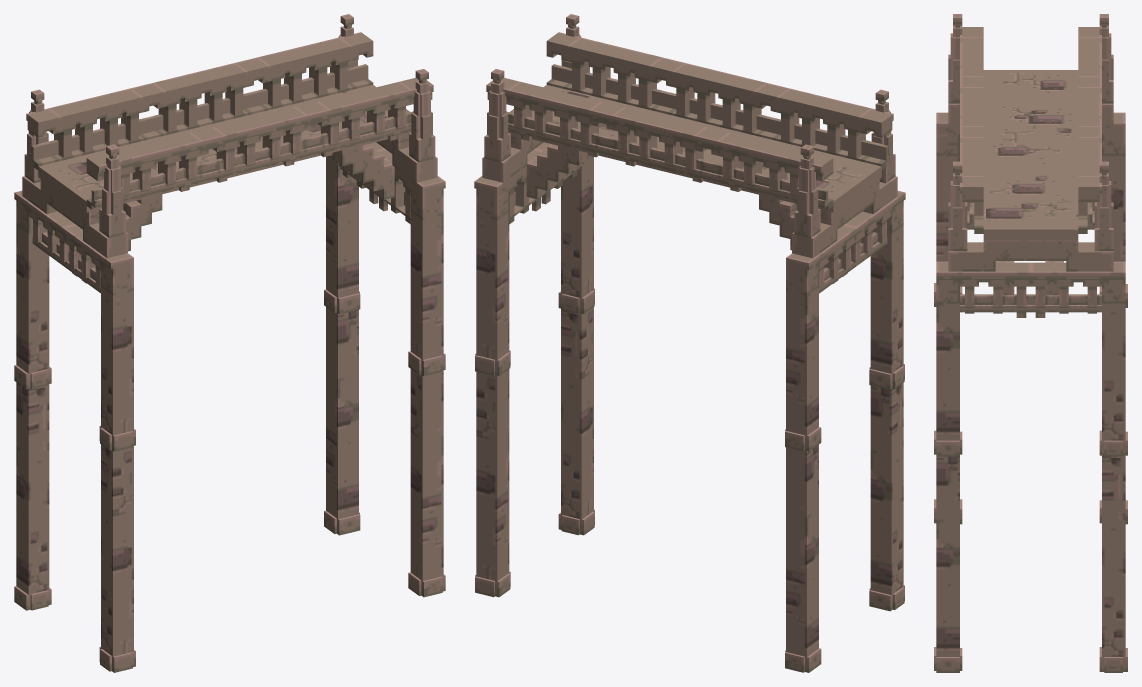
Rendered from Bridge-5.fbx.
The picture shows the model from 3 angles, left to right: view 1: azimuth 30°, elevation 25°; view 2: azimuth 150°, elevation 25°; view 3: azimuth 270°, elevation 25°; orthographic projection. The views are drawn at different scales.
Visible parts, largest first — view 1: Bridge-5; view 2: Bridge-5; view 3: Bridge-5.
Part boxes in pixels (x1,y1,x2,y2): Bridge-5: (14, 14, 445, 672); Bridge-5: (474, 14, 905, 672); Bridge-5: (934, 14, 1127, 672).
Size of the model in its own units: 800 by 1175 by 410.
